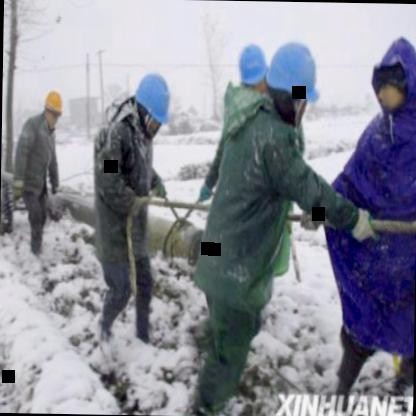helmet: (266, 34, 321, 130), (131, 64, 176, 146), (235, 39, 270, 98), (41, 86, 66, 130)
